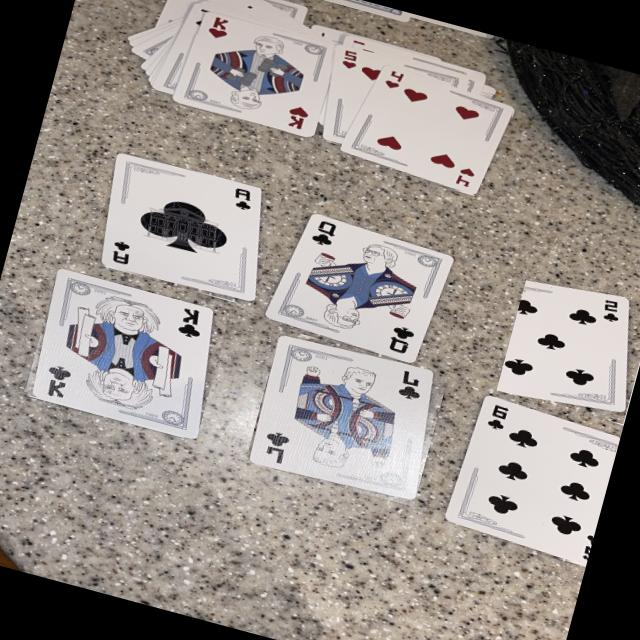4 of hearts: (340, 66, 513, 195)
5 of clubs: (497, 281, 631, 412)
5 of hearts: (321, 46, 473, 144)
6 of clubs: (444, 396, 619, 565)
Ace of clubs: (101, 155, 262, 302)
Ace of spades: (156, 0, 199, 24)
Jack of clubs: (249, 336, 434, 499)
King of clubs: (33, 270, 213, 439)
King of hearts: (172, 12, 335, 137)
Queen of clubs: (265, 214, 453, 363)
